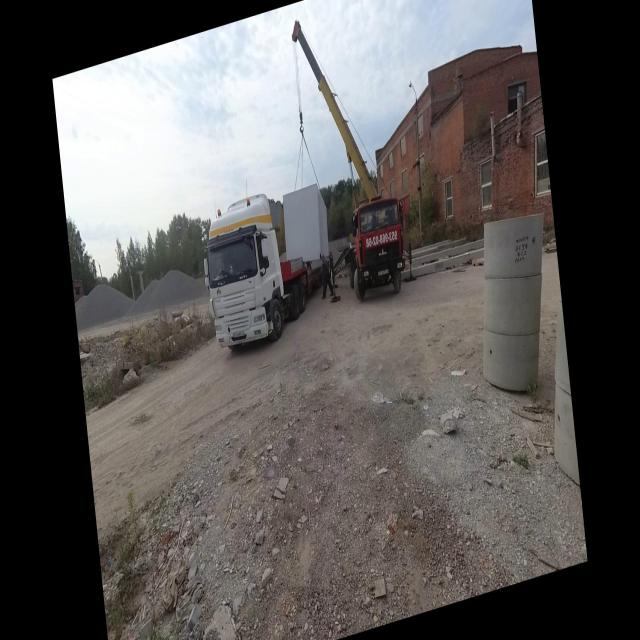crane: (288, 0, 418, 319)
